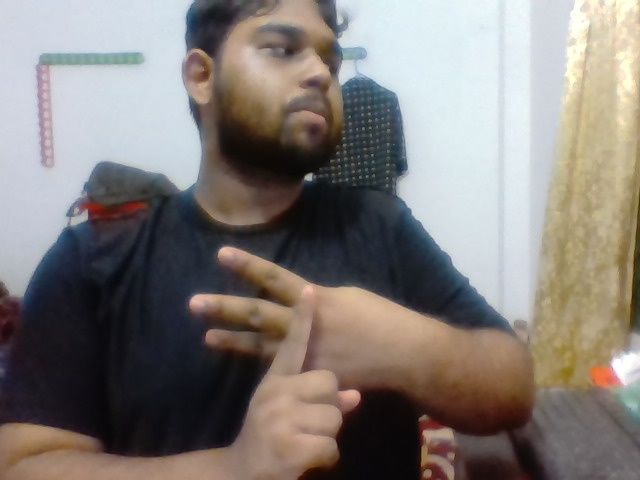E: (164, 224, 397, 475)
